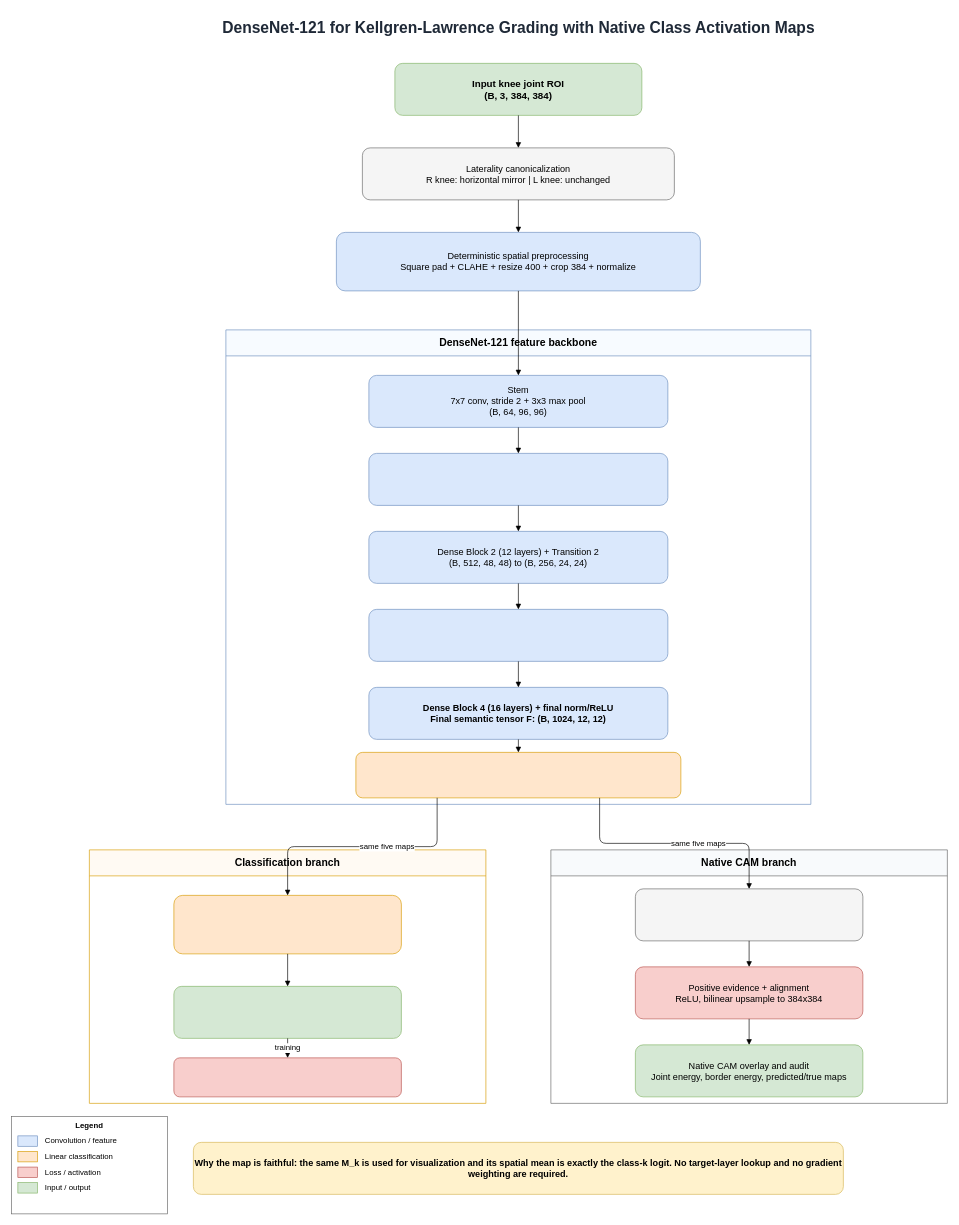
Some shapes in this 959 by 1225 pixel diagram are drawn without their labels. The centre of each missing label's shape, as x and y in pixels:
"1x1 class convolution M = W * F + b Five grade maps: (B, 5, 12, 12)" belongs at point 518,775.
"Cross-entropy loss Target KL grade 0-4" belongs at point 287,1077.
"Dense Block 1 (6 layers) + Transition 1 (B, 256, 96, 96) to (B, 128, 48, 48)" belongs at point 518,479.
"Dense Block 3 (24 layers) + Transition 3 (B, 1024, 24, 24) to (B, 512, 12, 12)" belongs at point 518,635.
"Global average pooling logit_k = mean(M_k) (B, 5)" belongs at point 287,924.
"Select M_pred and M_true Direct grade-specific evidence maps" belongs at point 749,914.
"Softmax probabilities Predicted KL grade = argmax(logits)" belongs at point 287,1012.
